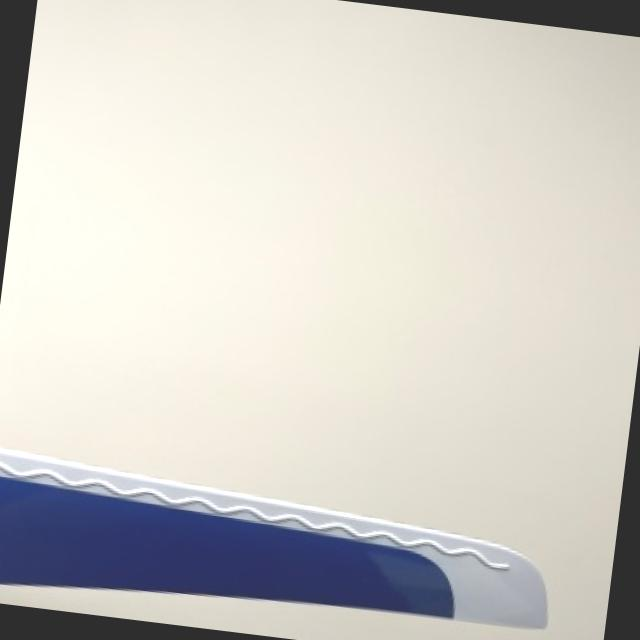healthy: (0, 447, 547, 625)
